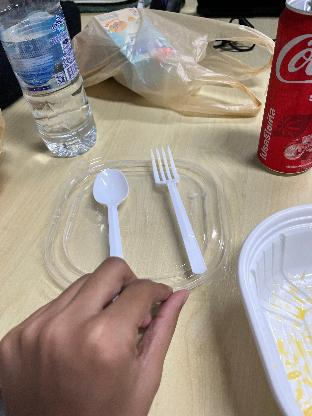Others: (142, 149, 216, 283), (85, 164, 139, 266)
